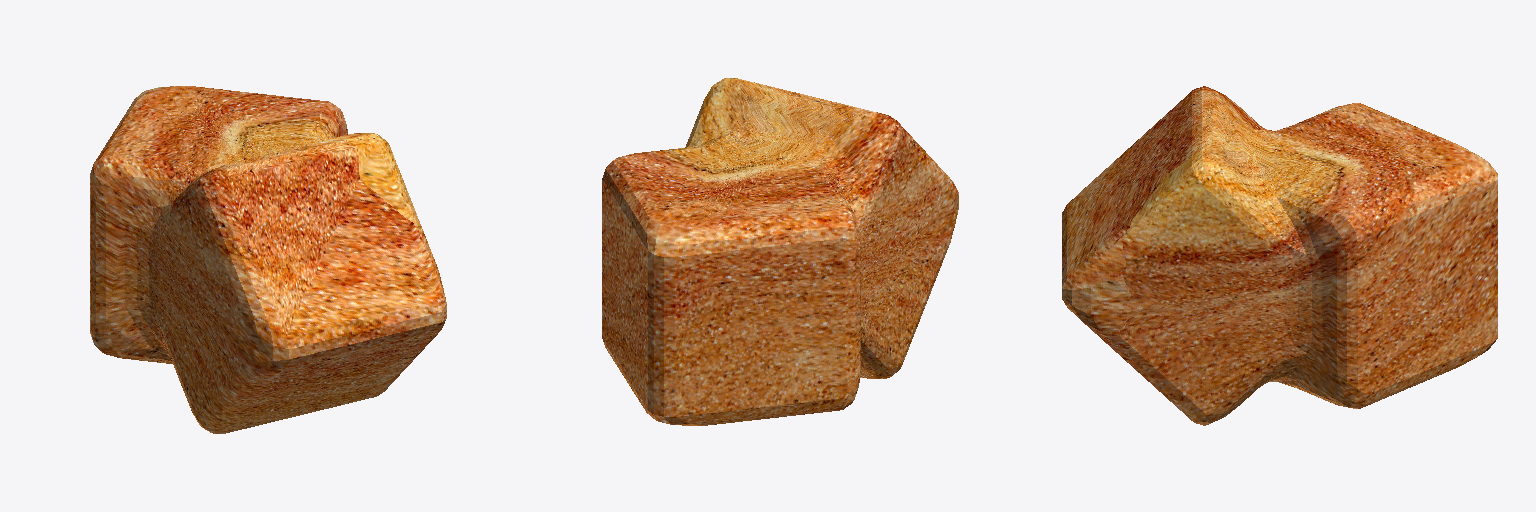
The picture shows the model from 3 angles: view 1: azimuth 30°, elevation 25°; view 2: azimuth 150°, elevation 25°; view 3: azimuth 270°, elevation 25°; orthographic projection.
Parts seen in each view (by area): view 1: cube3.001; view 2: cube3.001; view 3: cube3.001.
Boxes of the visible parts, <box> form: cube3.001: <box>90,86,446,433</box>; cube3.001: <box>602,78,958,425</box>; cube3.001: <box>1062,86,1497,425</box>.
Size of the model in its own units: 1.32 by 1.32 by 1.98.
1 materials, 1 textured.